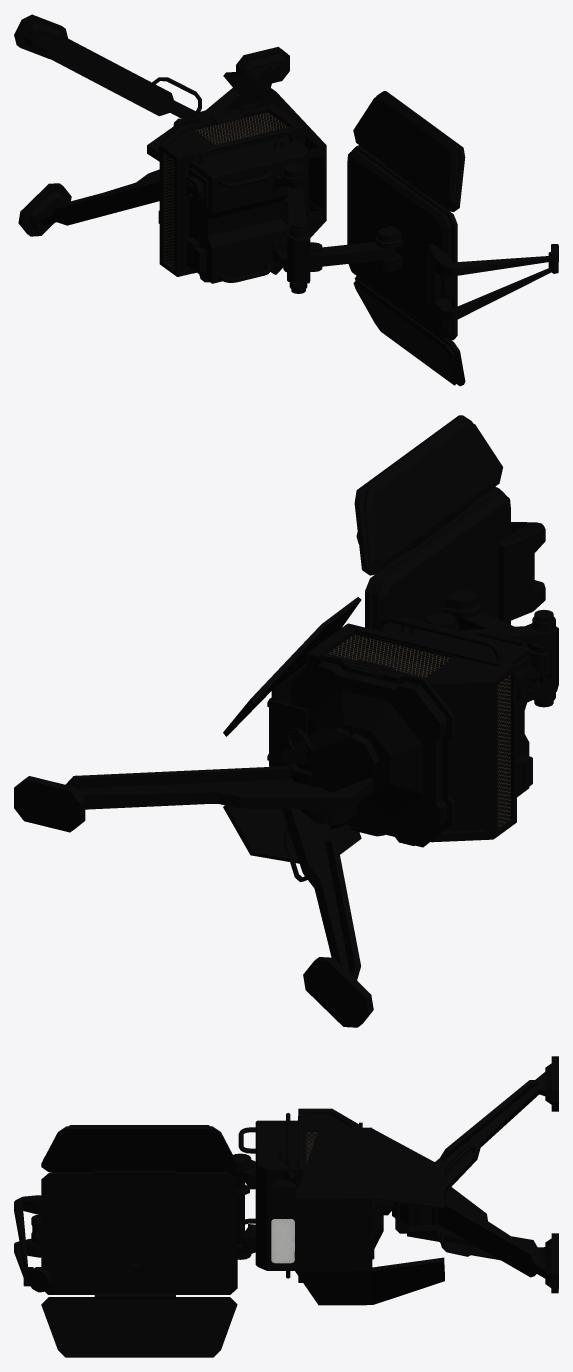
The model's file is t6_wpn_turret_ads_world_red_LOD0.obj.
The picture shows the model from 3 angles, top to bottom: view 1: azimuth 30°, elevation 25°; view 2: azimuth 150°, elevation 25°; view 3: azimuth 270°, elevation 25°; orthographic projection. The views are drawn at different scales.
Parts seen in each view (by area): view 1: mtl_t6_wpn_turret_ads_detect, mtl_t6_wpn_turret_ads_alpha_red; view 2: mtl_t6_wpn_turret_ads_detect, mtl_t6_wpn_turret_ads_alpha_red; view 3: mtl_t6_wpn_turret_ads_detect, mtl_t6_wpn_turret_ads_glass.
Boxes of the visible parts, box(x1,y1,x2,y2) form: mtl_t6_wpn_turret_ads_detect: box(14, 14, 558, 386); mtl_t6_wpn_turret_ads_alpha_red: box(164, 112, 288, 267); mtl_t6_wpn_turret_ads_detect: box(14, 415, 558, 1027); mtl_t6_wpn_turret_ads_alpha_red: box(327, 634, 510, 827); mtl_t6_wpn_turret_ads_detect: box(14, 1056, 558, 1357); mtl_t6_wpn_turret_ads_glass: box(271, 1219, 294, 1263).
Bounding box in the file's own units: 101 × 82.75 × 177.
